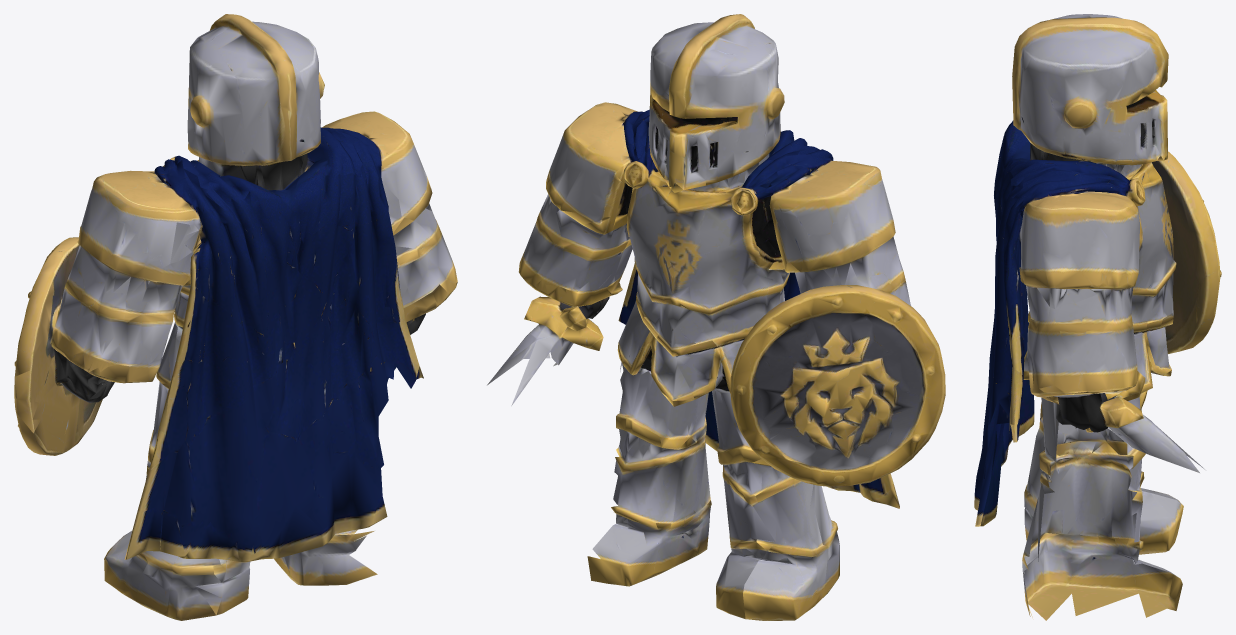
File: Knight.glb
3 renders of one model, left to right at view 1: azimuth 30°, elevation 25°; view 2: azimuth 150°, elevation 25°; view 3: azimuth 270°, elevation 25°, orthographic. The views are drawn at different scales.
Parts seen in each view (by area): view 1: UpperTorso, Head, LeftLowerArm, LeftUpperArm, LeftHand, RightUpperArm, RightLowerArm, RightFoot, LeftFoot, RightHand; view 2: LeftLowerArm, UpperTorso, Head, LeftUpperArm, RightUpperArm, RightLowerArm, RightLowerLeg, RightHand, LowerTorso, RightFoot, RightUpperLeg, LeftLowerLeg (+3 smaller); view 3: Head, UpperTorso, RightUpperArm, RightLowerArm, RightFoot, RightLowerLeg, LeftLowerArm, RightHand, RightUpperLeg, LeftFoot, LowerTorso, LeftHand (+1 smaller).
Part boxes in pixels (box(x1,y1,x2,y2)): UpperTorso: box(160, 155, 423, 562); Head: box(165, 14, 362, 210); LeftLowerArm: box(14, 237, 190, 605); LeftUpperArm: box(72, 160, 218, 299); LeftHand: box(15, 338, 221, 620); RightUpperArm: box(322, 111, 432, 235); RightLowerArm: box(393, 208, 457, 303); RightFoot: box(274, 531, 377, 585); LeftFoot: box(195, 560, 250, 615); RightHand: box(402, 281, 457, 334); LeftLowerArm: box(730, 249, 945, 620); UpperTorso: box(614, 144, 863, 496); Head: box(627, 14, 813, 190); LeftUpperArm: box(763, 147, 898, 284); RightUpperArm: box(546, 102, 649, 223); RightLowerArm: box(518, 194, 632, 291); RightLowerLeg: box(611, 425, 710, 528); RightHand: box(487, 266, 637, 406); LowerTorso: box(619, 301, 744, 400); RightFoot: box(587, 500, 711, 586); RightUpperLeg: box(616, 363, 708, 452); LeftLowerLeg: box(722, 464, 775, 558); Head: box(1005, 14, 1168, 187); UpperTorso: box(974, 123, 1176, 526); RightUpperArm: box(1014, 171, 1139, 317); RightLowerArm: box(1020, 285, 1137, 394); RightFoot: box(1022, 532, 1182, 620); RightLowerLeg: box(1023, 442, 1143, 561); LeftLowerArm: box(1141, 151, 1221, 504); RightHand: box(1020, 341, 1204, 472); RightUpperLeg: box(1023, 370, 1171, 477); LeftFoot: box(1024, 487, 1183, 554); LowerTorso: box(1022, 298, 1173, 401); LeftHand: box(1021, 283, 1034, 489).
Bounding box in the file's own units: 1.54 × 1.9 × 0.7686.
2 materials, 1 textured.
